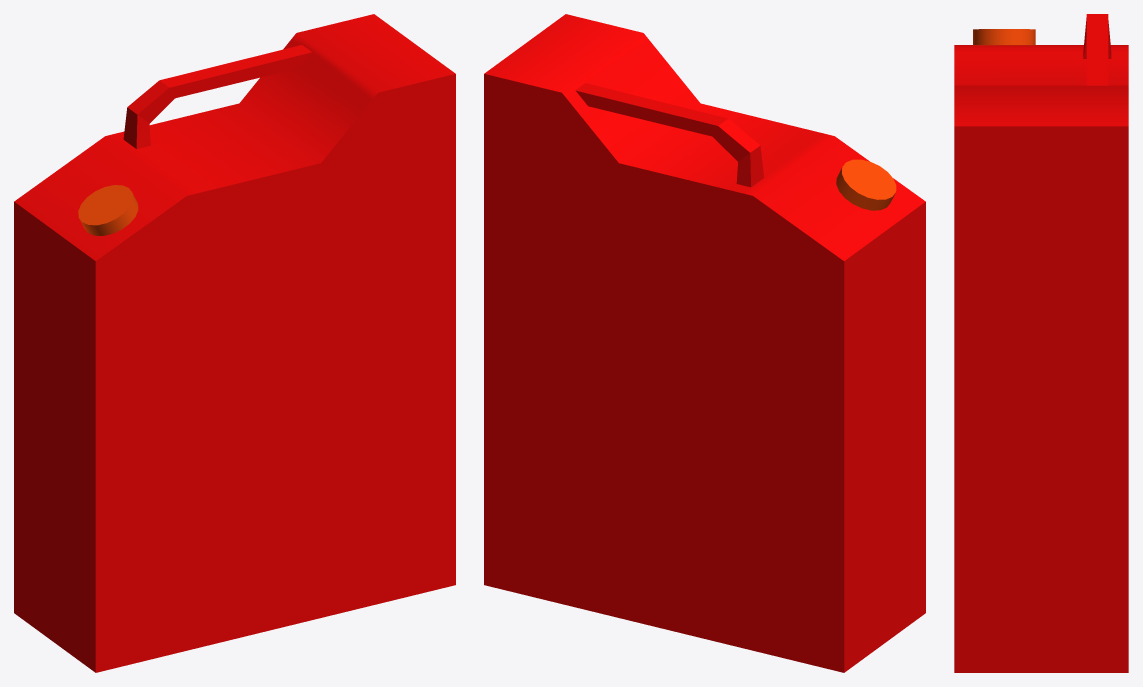
Rendered from Jerrican.FBX.
3 renders of one model, left to right at view 1: azimuth 30°, elevation 25°; view 2: azimuth 150°, elevation 25°; view 3: azimuth 270°, elevation 25°, orthographic. The views are drawn at different scales.
Visible parts, largest first — view 1: Jerrican001; view 2: Jerrican001; view 3: Jerrican001.
Boxes of the visible parts, x1,y1,x2,y2 form: Jerrican001: (14,14,455,672); Jerrican001: (484,14,925,672); Jerrican001: (954,14,1128,672).
Bounding box in the file's own units: 18.67 × 25.33 × 7.33.
